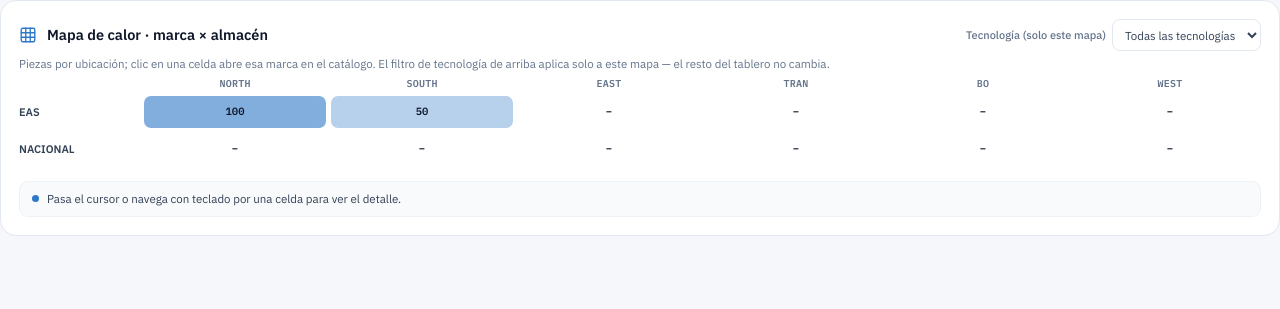
Test: DashboardHeatmapCard › si el fetch del filtro falla: conserva el heatmap anterior + aviso con Reintentar (no rompe la vista)
Select "RFID" in the dropdown labelled "Tecnología (solo este mapa)" at {"x": 1186, "y": 35}, box [1112,19,1261,51]
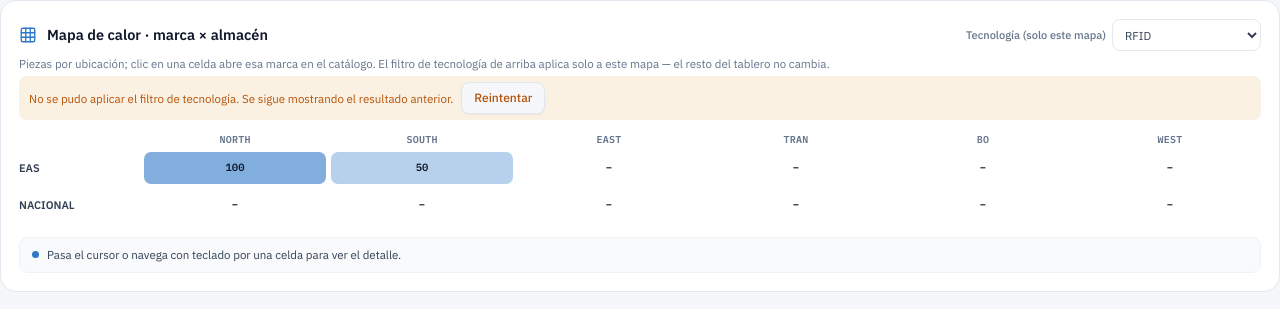
Check: the button named "EAS · NORTH: 100 piezas" is shown, box [144,152,326,184]
Check: the message is shown, box [19,76,1261,120]
Click the button "Reintentar".
click(503, 98)  # box [461,82,545,114]
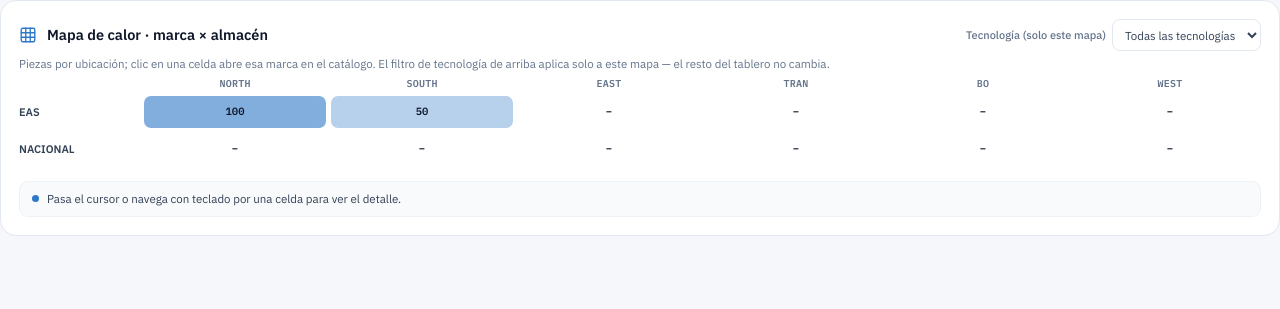
Check: the message is gone
